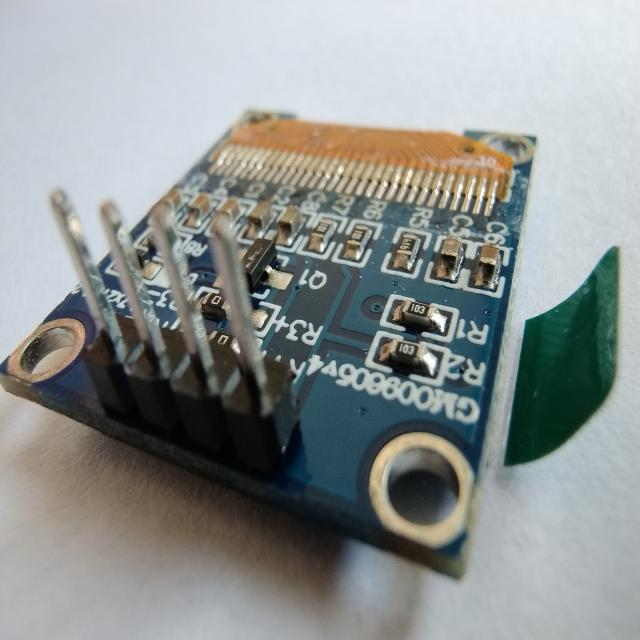oled: (0, 84, 630, 591)
